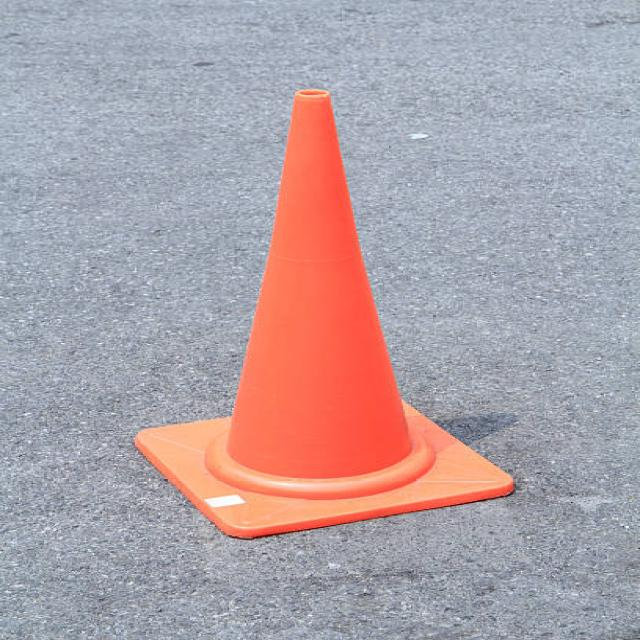Traffic Cone: (91, 54, 538, 565)
